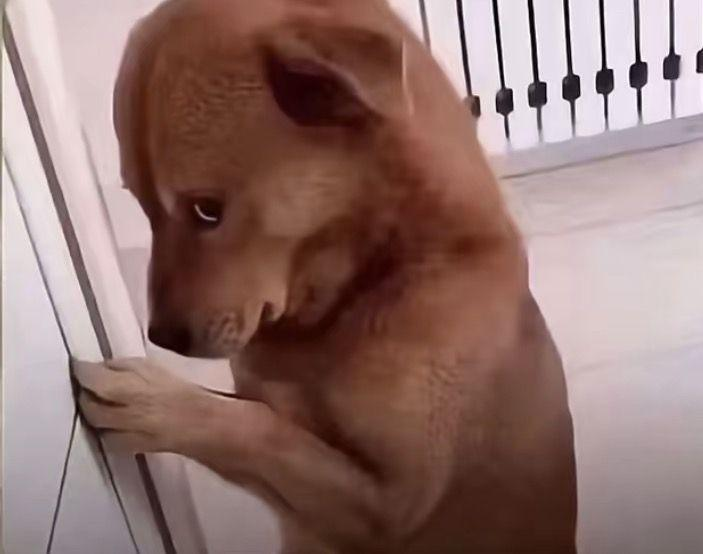adult_dog: (66, 2, 580, 554)
